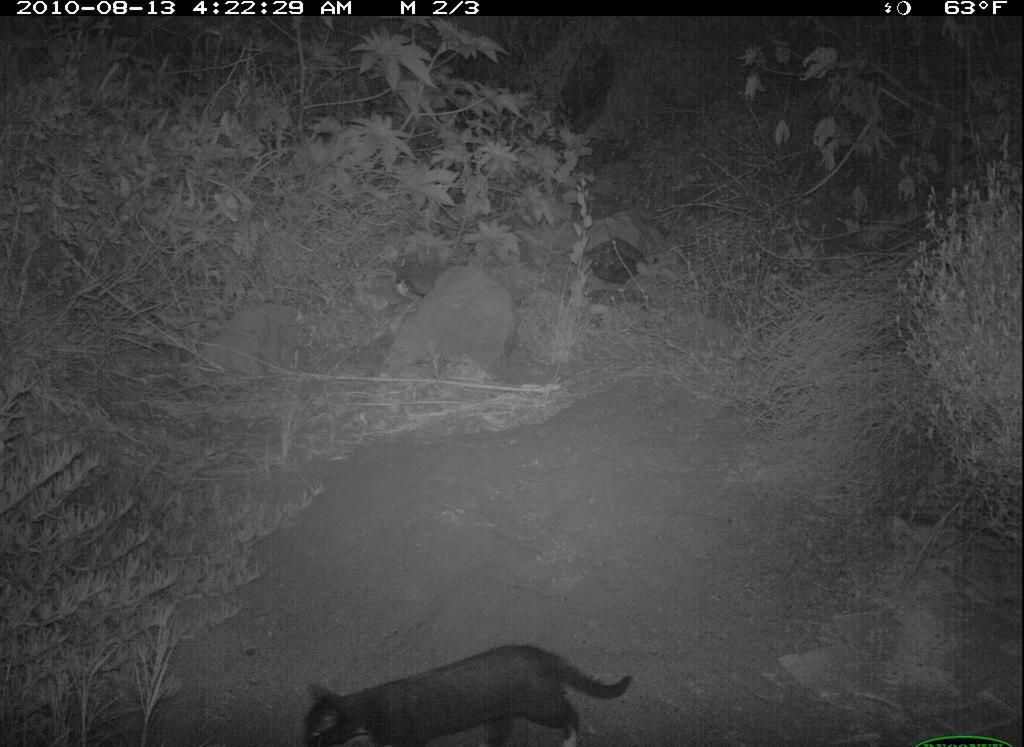cat: (299, 632, 639, 747)
